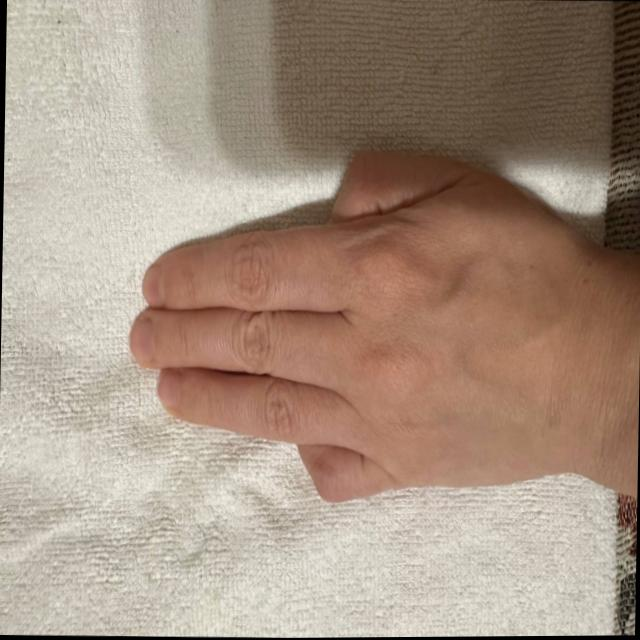t: (121, 132, 548, 545)
